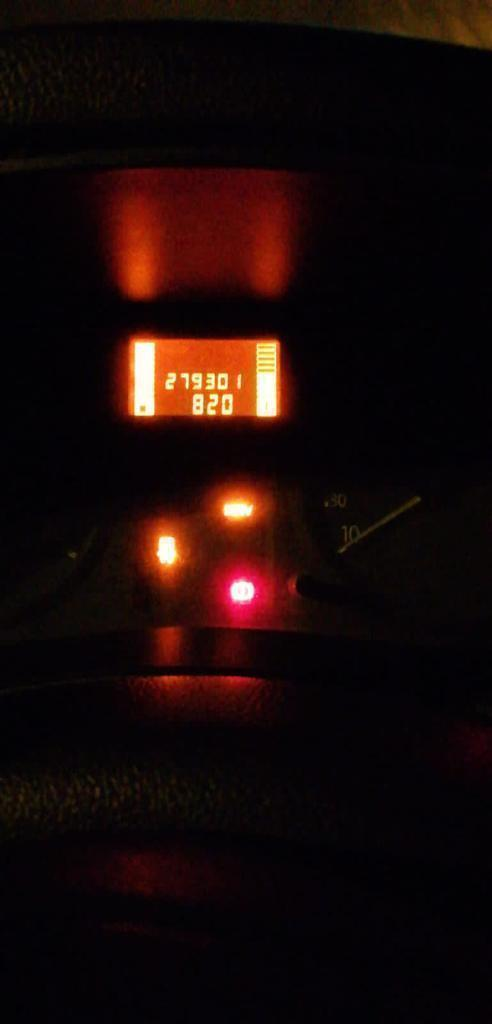0: (220, 393, 233, 416), (216, 372, 228, 390)
1: (236, 373, 241, 390)
2: (206, 393, 219, 415), (164, 372, 176, 390)
3: (204, 372, 215, 390)
7: (179, 372, 189, 390)
8: (191, 393, 204, 416)
9: (191, 372, 202, 390)
odometer: (125, 335, 281, 420)
